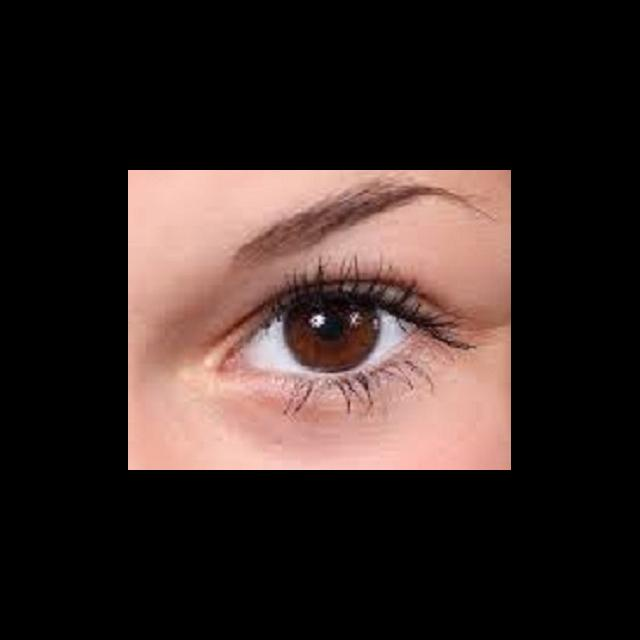eye: (241, 299, 423, 374)
iris: (284, 301, 379, 372)
